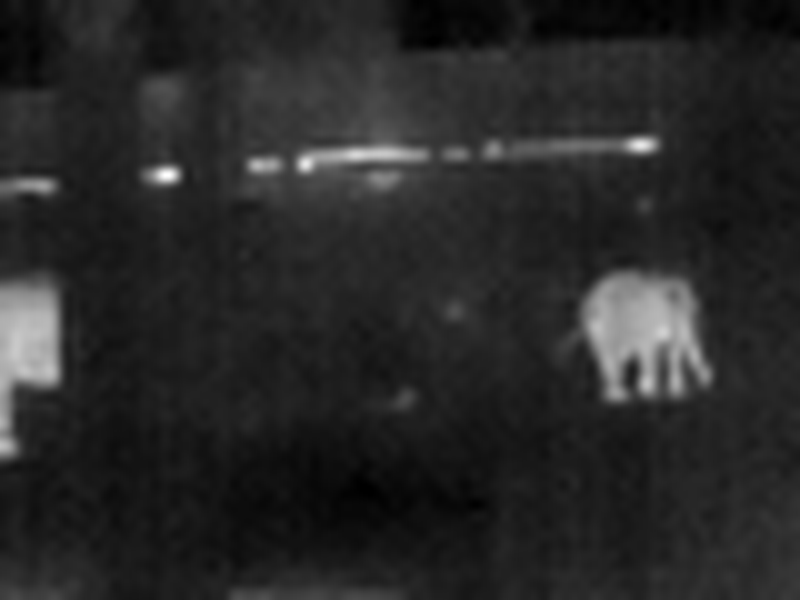elephant: (569, 263, 733, 421), (4, 255, 112, 458)
